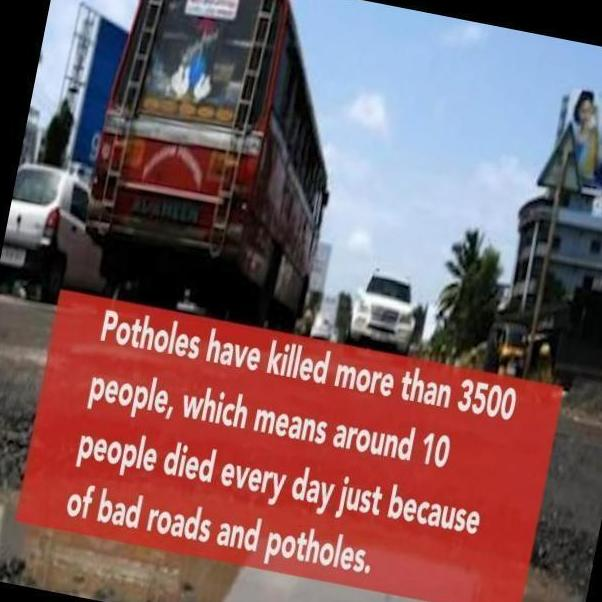pothole: (0, 471, 591, 602)
